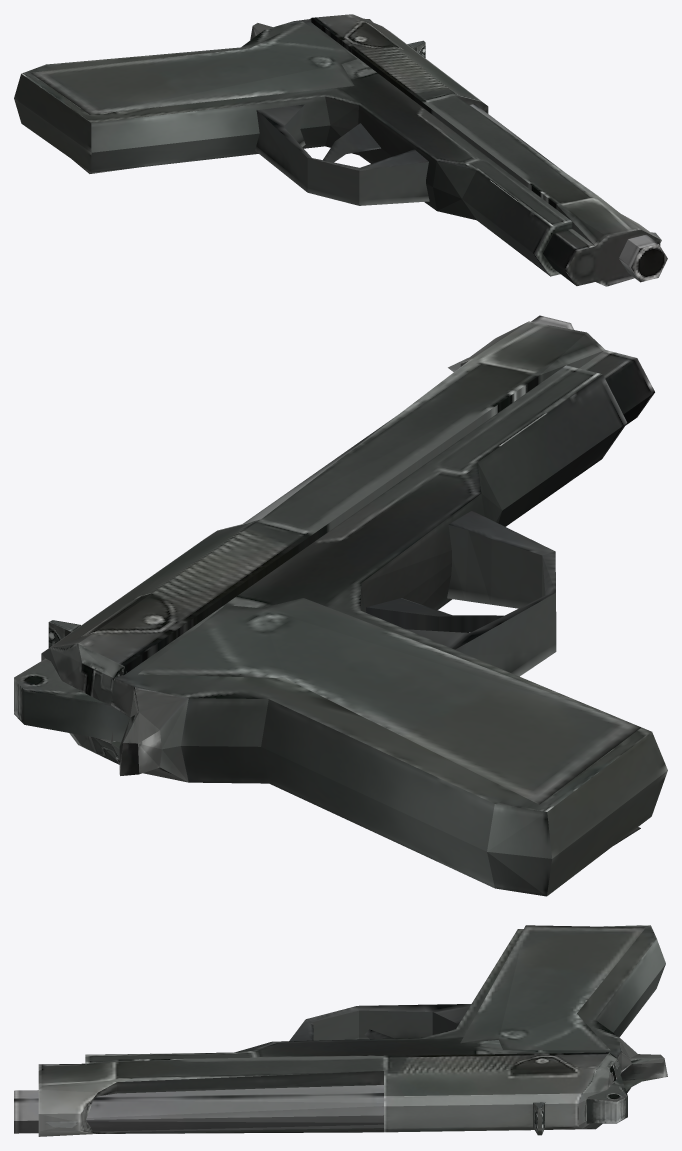
File: PiErSenGongYu_01_shouqiang_01.FBX
3 views of the same model, one above another, from view 1: azimuth 30°, elevation 25°; view 2: azimuth 150°, elevation 25°; view 3: azimuth 270°, elevation 25° (orthographic). The views are drawn at different scales.
Parts seen in each view (by area): view 1: PiErSenDeGongYu_shouqiang_01; view 2: PiErSenDeGongYu_shouqiang_01; view 3: PiErSenDeGongYu_shouqiang_01.
Part boxes in pixels (x1,y1,x2,y2): PiErSenDeGongYu_shouqiang_01: (14,14,667,286); PiErSenDeGongYu_shouqiang_01: (14,315,667,896); PiErSenDeGongYu_shouqiang_01: (14,925,667,1136).
Bounding box in the file's own units: 63.96 × 11.56 × 102.
